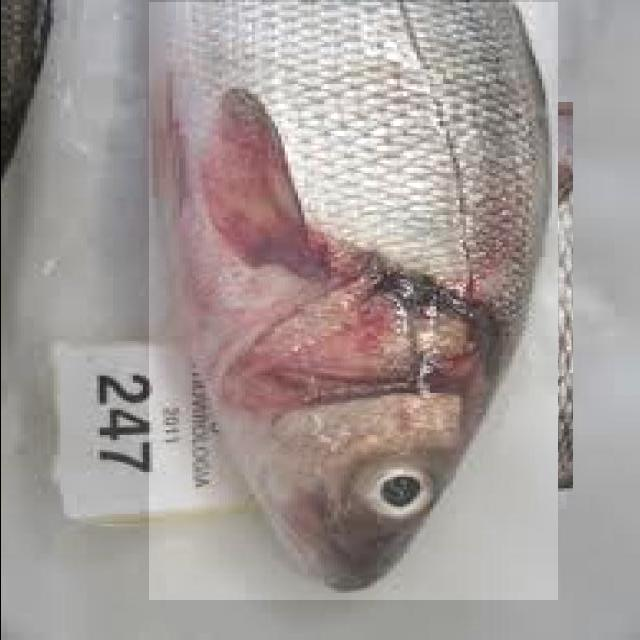EUS Disease: (148, 2, 557, 600), (153, 96, 566, 509)
